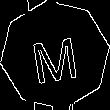M_N: (28, 27, 82, 83)
